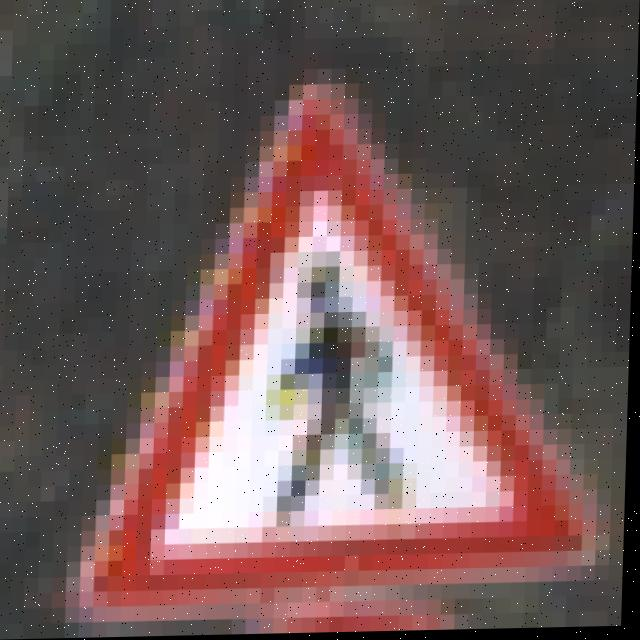crosswalk: (94, 77, 637, 592)
